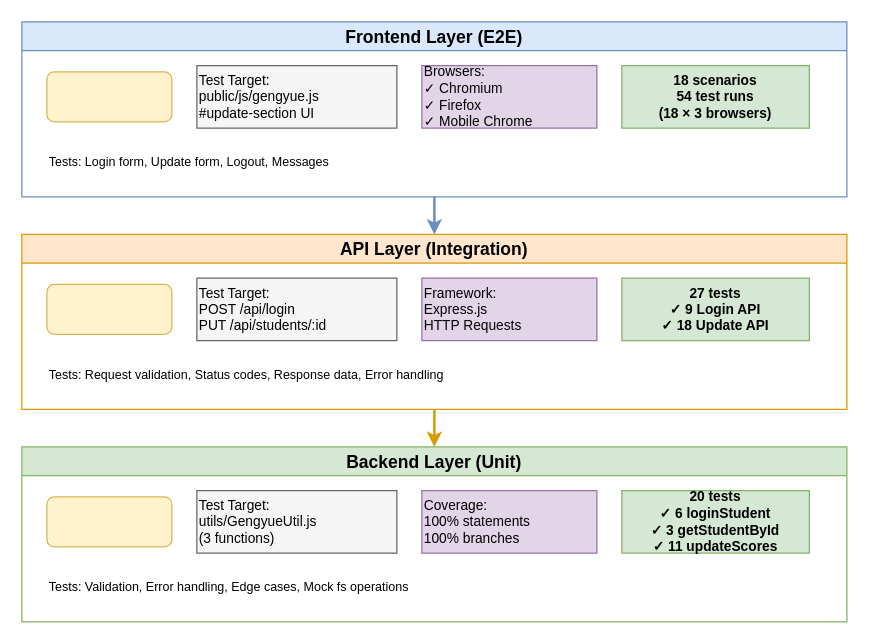
Image size: 869x644. Some labels were removed from this diagram. Here are the shapes that lost their labels. From the top down, the centre of each, then its label:
At pixel 109 96: "Playwright".
At pixel 109 308: "Supertest".
At pixel 109 521: "Jest".
